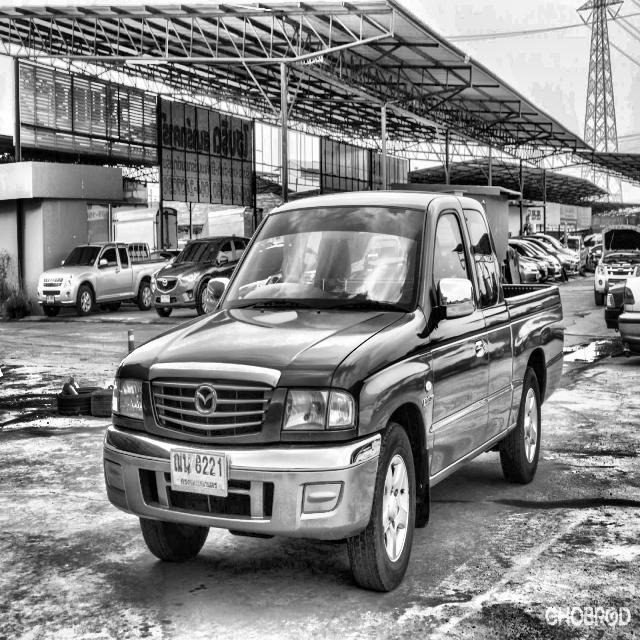license-plate: (169, 446, 230, 498)
